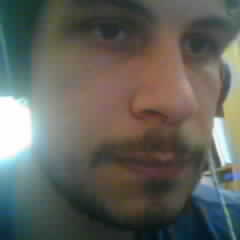without_mask: (31, 1, 228, 228)
